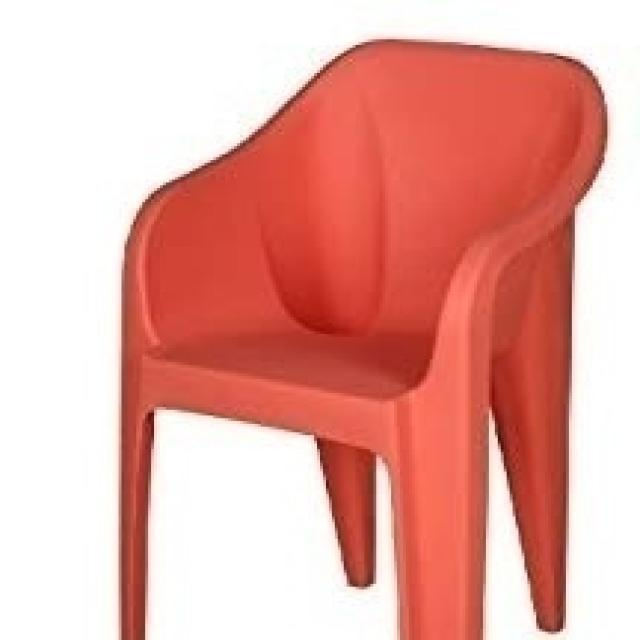chair: (112, 36, 610, 640)
